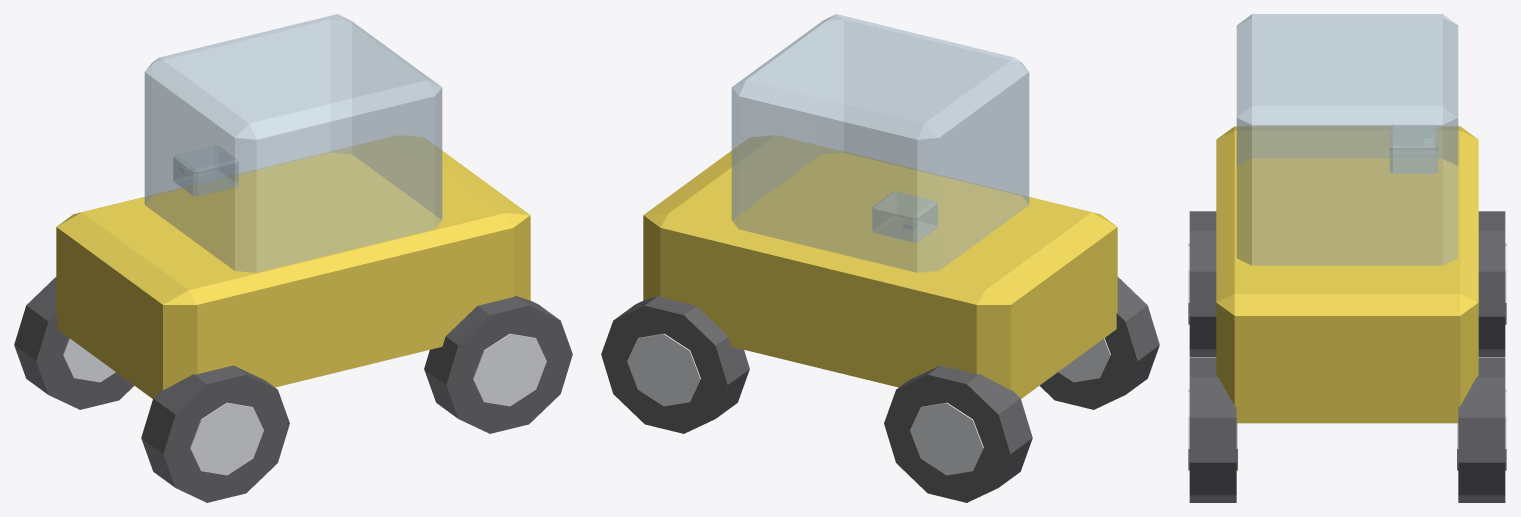
File: b07_single_drum_soil_compactor.glb
3 views of the same model, side by side, from view 1: azimuth 30°, elevation 25°; view 2: azimuth 150°, elevation 25°; view 3: azimuth 270°, elevation 25° (orthographic). The views are drawn at different scales.
Parts seen in each view (by area): view 1: b07_single_drum_soil_compactor; view 2: b07_single_drum_soil_compactor; view 3: b07_single_drum_soil_compactor.
Part boxes in pixels (left/top/right/bottom): b07_single_drum_soil_compactor: left=14, top=14, right=572, bottom=502; b07_single_drum_soil_compactor: left=601, top=14, right=1159, bottom=502; b07_single_drum_soil_compactor: left=1188, top=14, right=1506, bottom=502.
Bounding box in the file's own units: 4.1 × 3.25 × 2.61.
